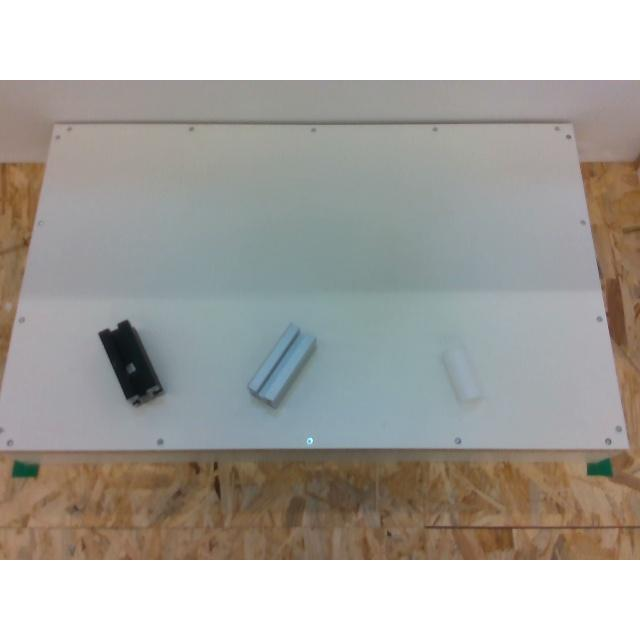S40_40_B: (99, 320, 163, 404)
S40_40_G: (247, 323, 315, 407)
Spacer: (442, 346, 482, 406)
